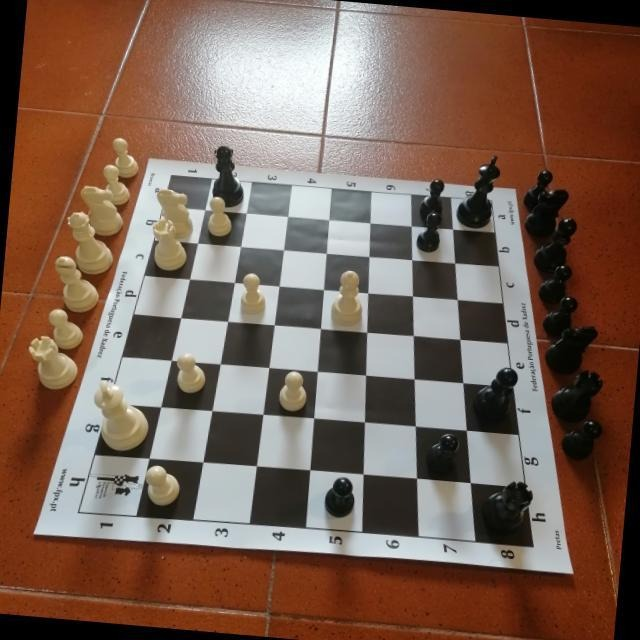black-bishop: (530, 212, 578, 275)
black-king: (453, 152, 502, 232)
black-knight: (542, 321, 599, 378), (522, 185, 570, 242)
black-pawn: (559, 416, 603, 464), (540, 293, 579, 338), (535, 261, 573, 307), (323, 474, 357, 520), (423, 431, 460, 473), (521, 168, 554, 212), (413, 209, 442, 254), (418, 177, 446, 222)
black-queen: (208, 143, 248, 209)
black-rook: (548, 365, 604, 426), (478, 478, 534, 534)
white-bishop: (49, 253, 103, 314), (471, 363, 519, 428), (329, 267, 367, 328)
white-king: (89, 378, 153, 453)
white-knight: (75, 184, 126, 238), (152, 186, 196, 241)
white-pawn: (44, 306, 85, 351), (142, 464, 182, 508), (173, 350, 208, 394), (98, 162, 133, 206), (237, 271, 268, 316), (109, 137, 142, 179), (276, 369, 308, 412), (206, 194, 234, 237)
white-queen: (61, 208, 118, 276)
white-rook: (22, 334, 81, 392), (148, 215, 192, 272)
